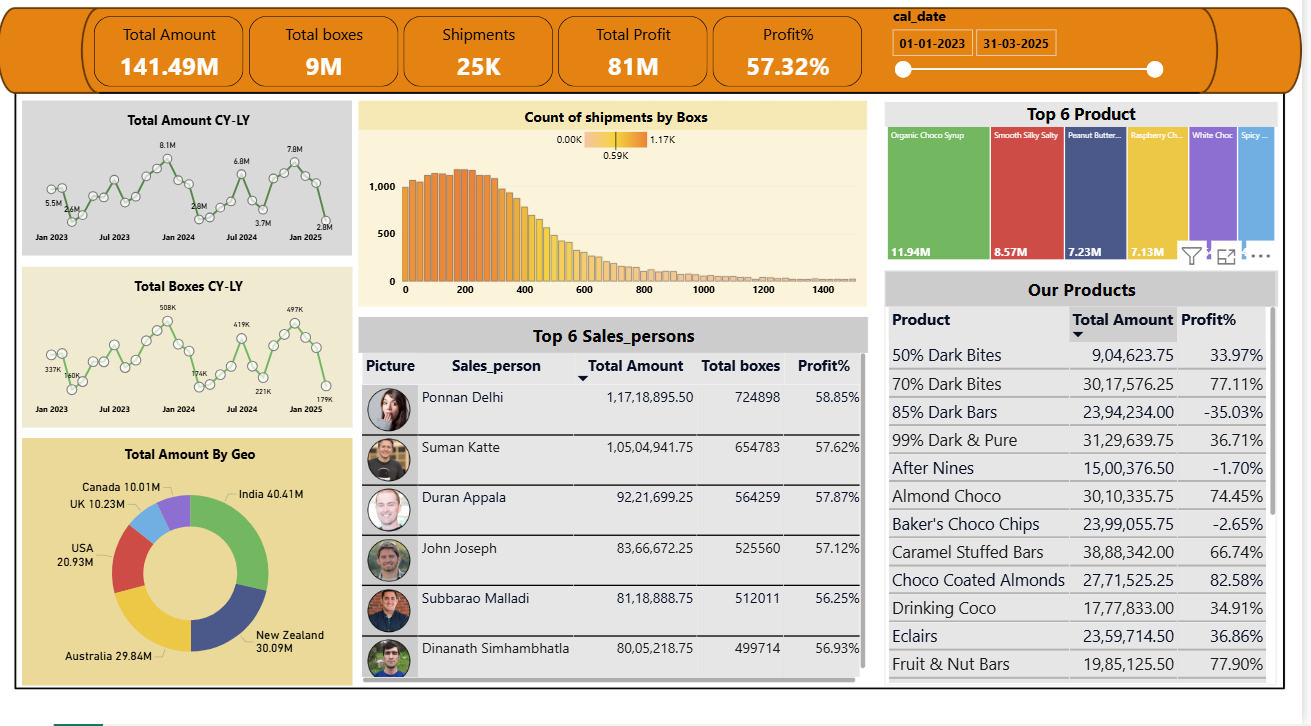

What the dashboard file says about the page in this screenshot:
{"tool":"powerbi","page":{"name":"BI Report","canvas":[2000,1143],"ordinal":0},"visuals":[{"type":"lineChart","title":"Total Amount CY-LY","fields":{"Y":["shipments.Total Amount"],"Category":["calendar.Start of Month.Variation.Date Hierarchy.Year","calendar.Start of Month.Variation.Date Hierarchy.Quarter","calendar.Start of Month.Variation.Date Hierarchy.Month","calendar.Start of Month.Variation.Date Hierarchy.Day"]},"box":[38.3,187.7,505.6,237.5],"z":0},{"type":"lineChart","title":"Total Boxes CY-LY","fields":{"Category":["calendar.Start of Month.Variation.Date Hierarchy.Year","calendar.Start of Month.Variation.Date Hierarchy.Quarter","calendar.Start of Month.Variation.Date Hierarchy.Month","calendar.Start of Month.Variation.Date Hierarchy.Day"],"Y":["shipments.total boxes"]},"box":[38.6,441.7,506,246.6],"z":1000},{"type":"donutChart","title":"Total Amount By Geo","fields":{"Category":["locations.Geo"],"Y":["shipments.Total Amount"]},"box":[38.6,705.4,506,379.5],"z":2000},{"type":"clusteredColumnChart","title":"Count of shipments by Boxs","fields":{"Category":["shipments.Boxes (bins)"],"Y":["CountNonNull(shipments.Shipdate)"]},"box":[553.5,187.7,779.5,316],"z":3000},{"type":"tableEx","title":"Top 6 Sales_persons","fields":{"Values":["people.Picture","people.Sales_person","shipments.Total Amount","shipments.total boxes","shipments.Profit%"]},"box":[553.2,518.9,780.4,566],"z":4000},{"type":"treemap","title":" Top 6 Product","fields":{"Details":["products.Product"],"Values":["shipments.Total Amount"]},"box":[1359.4,188.7,602.5,246.6],"z":5000},{"type":"tableEx","title":"Our Products","fields":{"Values":["products.Product","shipments.Total Amount","shipments.Profit%"]},"box":[1359.4,448.1,602.5,636.8],"z":6000},{"type":"cardVisual","fields":{"Data":["shipments.Total Amount","shipments.total boxes","shipments.Shipments","shipments.Total Profit","shipments.Profit%"]},"box":[143.6,53.6,1189.4,118.7],"z":7000},{"type":"slicer","fields":{"Values":["calendar.cal_date"]},"box":[1359.4,38.6,435.3,150.1],"z":8000}]}

Visuals, with their boxes on the page's 2000x1143 design canvas (x1, y1, x2, y2). These are canvas units, not pixel positions in the 1311x726 screenshot, which may show the page scaled, cropped or inside an application window:
"Total Amount CY-LY" lineChart: rect(38, 188, 544, 425)
"Total Boxes CY-LY" lineChart: rect(39, 442, 545, 688)
"Total Amount By Geo" donutChart: rect(39, 705, 545, 1085)
"Count of shipments by Boxs" clusteredColumnChart: rect(554, 188, 1333, 504)
"Top 6 Sales_persons" tableEx: rect(553, 519, 1334, 1085)
" Top 6 Product" treemap: rect(1359, 189, 1962, 435)
"Our Products" tableEx: rect(1359, 448, 1962, 1085)
cardVisual - shipments.Total Amount x shipments.total boxes: rect(144, 54, 1333, 172)
slicer - calendar.cal_date: rect(1359, 39, 1795, 189)
